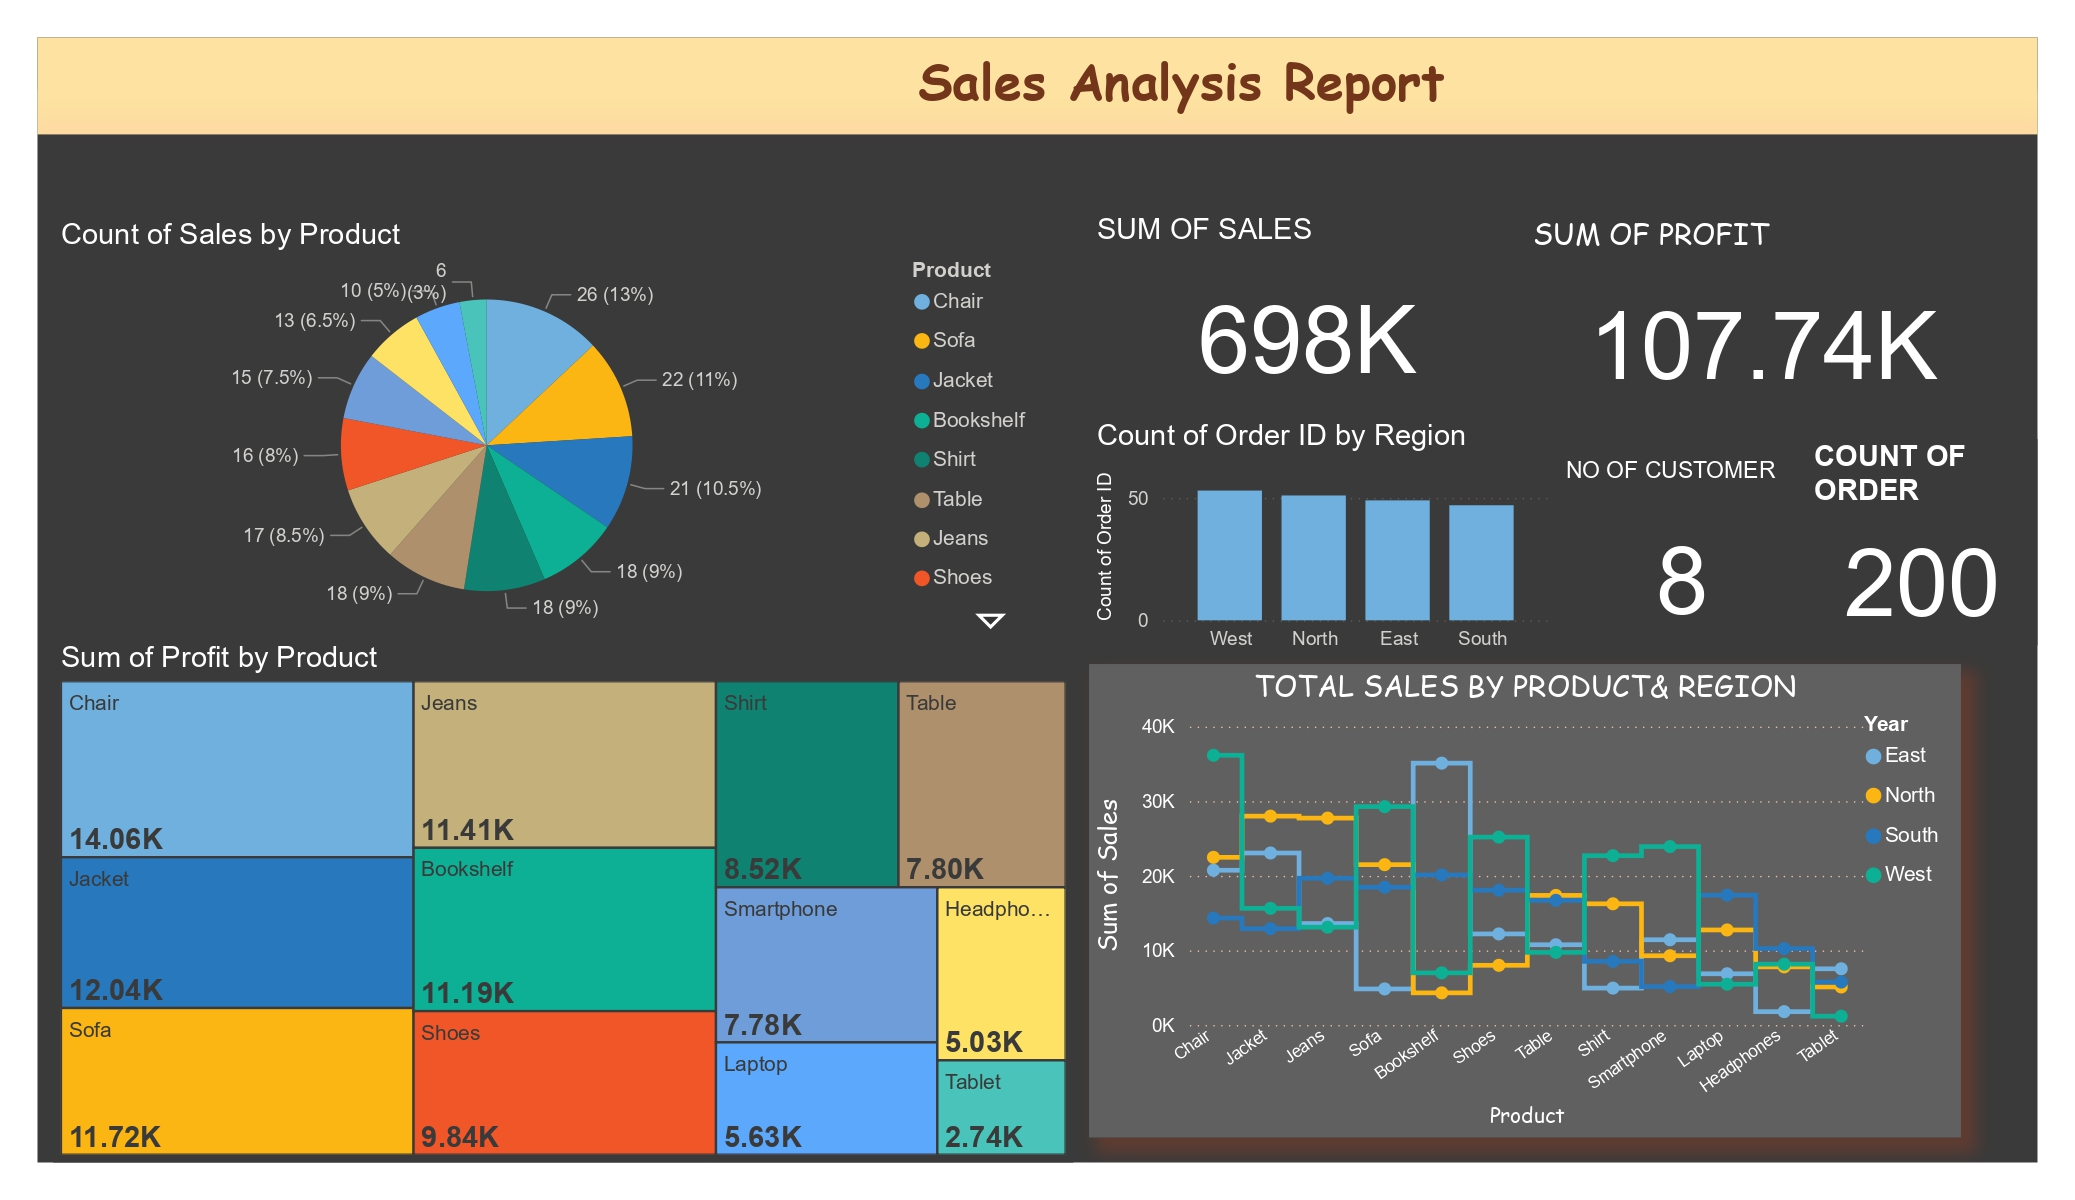

This screenshot's page, from the dashboard's own definition file:
{"tool":"powerbi","page":{"name":"Page 1","canvas":[1280,720],"ordinal":0},"visuals":[{"type":"pieChart","fields":{"Y":["CountNonNull(Sheet1.Sales)"],"Category":["Sheet1.Product"]},"box":[10,115,652.5,271.2],"z":0},{"type":"treemap","fields":{"Group":["Sheet1.Product"],"Values":["Sum(Sheet1.Profit)"]},"box":[10,386.2,652.5,333.8],"z":1000},{"type":"card","title":"COUNT OF ORDER ","fields":{"Values":["CountNonNull(Sheet1.Order ID)"]},"box":[1132.2,256.7,147.8,132.2],"z":2000},{"type":"card","title":"NO OF CUSTOMER ","fields":{"Values":["Count(Sheet1.Customer Name)"]},"box":[973.3,268.9,158.9,132.2],"z":3000},{"type":"columnChart","fields":{"Category":["Sheet1.Region"],"Y":["CountNonNull(Sheet1.Order ID)"]},"box":[673.3,244.4,300,156.7],"z":4000},{"type":"card","title":"SUM OF SALES ","fields":{"Values":["Sum(Sheet1.Sales)"]},"box":[673.3,112.2,278.9,132.2],"z":5000},{"type":"card","title":"SUM OF PROFIT","fields":{"Values":["Sum(Sheet1.Profit)"]},"box":[952.2,112.2,304.4,134.4],"z":6000},{"type":"ribbonChart","title":"TOTAL SALES BY PRODUCT& REGION","fields":{"Category":["Sheet1.Product"],"Y":["Sum(Sheet1.Sales)"],"Series":["Sheet1.Region"]},"box":[673.3,401.1,557.8,303.3],"z":7000},{"type":"textbox","box":[0,0,1280,62.5],"z":8000}]}

Visuals, with their boxes in screenshot pixels (x1, y1, x2, y2):
pieChart - CountNonNull(Sheet1.Sales) x Sheet1.Product: box(53, 217, 1073, 641)
treemap - Sheet1.Product x Sum(Sheet1.Profit): box(53, 641, 1073, 1162)
"COUNT OF ORDER " card: box(1807, 439, 2038, 645)
"NO OF CUSTOMER " card: box(1558, 458, 1807, 664)
columnChart - Sheet1.Region x CountNonNull(Sheet1.Order ID): box(1090, 419, 1558, 664)
"SUM OF SALES " card: box(1090, 213, 1525, 419)
"SUM OF PROFIT" card: box(1525, 213, 2001, 423)
"TOTAL SALES BY PRODUCT& REGION" ribbonChart: box(1090, 664, 1961, 1138)
textbox: box(38, 38, 2038, 135)
